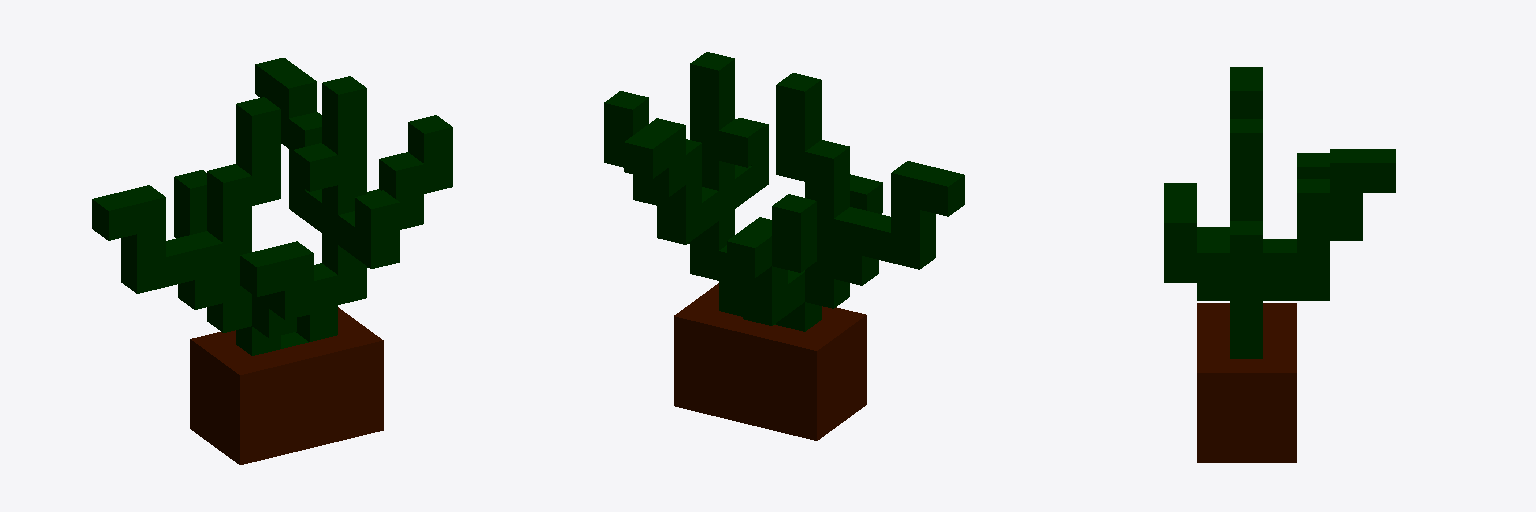
3 renders of one model, left to right at view 1: azimuth 30°, elevation 25°; view 2: azimuth 150°, elevation 25°; view 3: azimuth 270°, elevation 25°, orthographic.
Parts seen in each view (by area): view 1: flower_pot_Cactus; view 2: flower_pot_Cactus; view 3: flower_pot_Cactus.
Boxes of the visible parts, x1,y1,x2,y2 form: flower_pot_Cactus: [92, 58, 452, 464]; flower_pot_Cactus: [604, 52, 964, 440]; flower_pot_Cactus: [1164, 67, 1395, 462].
Bounding box in the file's own units: 12 × 11 × 7.
1 materials, 1 textured.